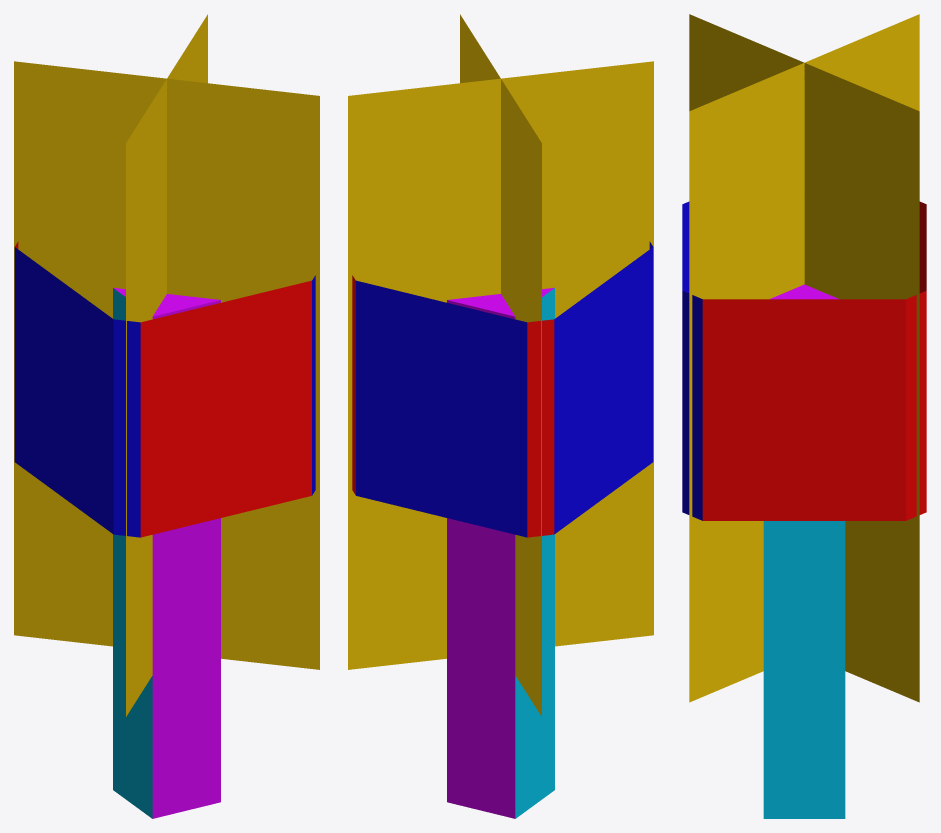
The model's file is torch_floor.obj.
3 renders of one model, left to right at view 1: azimuth 30°, elevation 25°; view 2: azimuth 150°, elevation 25°; view 3: azimuth 270°, elevation 25°, orthographic. The views are drawn at different scales.
Visible parts, largest first — view 1: Torch_Floor_Cube.002; view 2: Torch_Floor_Cube.002; view 3: Torch_Floor_Cube.002.
Boxes of the visible parts, x1,y1,x2,y2 form: Torch_Floor_Cube.002: [14, 14, 319, 818]; Torch_Floor_Cube.002: [348, 14, 653, 818]; Torch_Floor_Cube.002: [682, 14, 926, 818].
Bounding box in the file's own units: 0.375 × 1.25 × 0.375.
